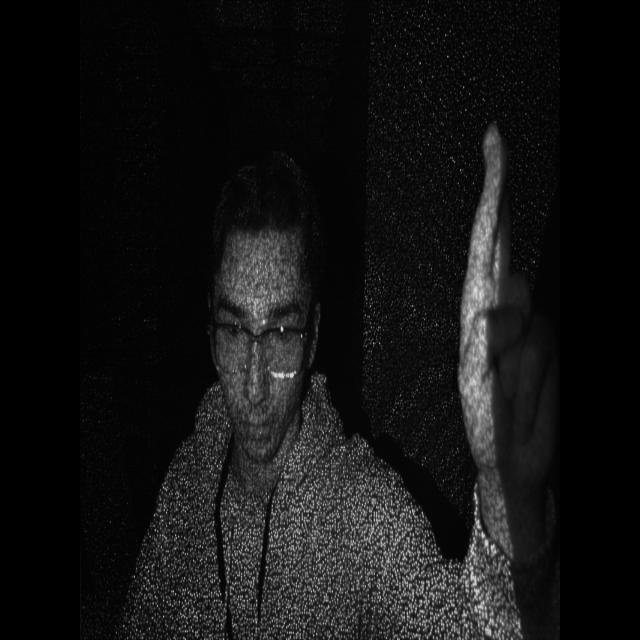R: (443, 94, 565, 504)
